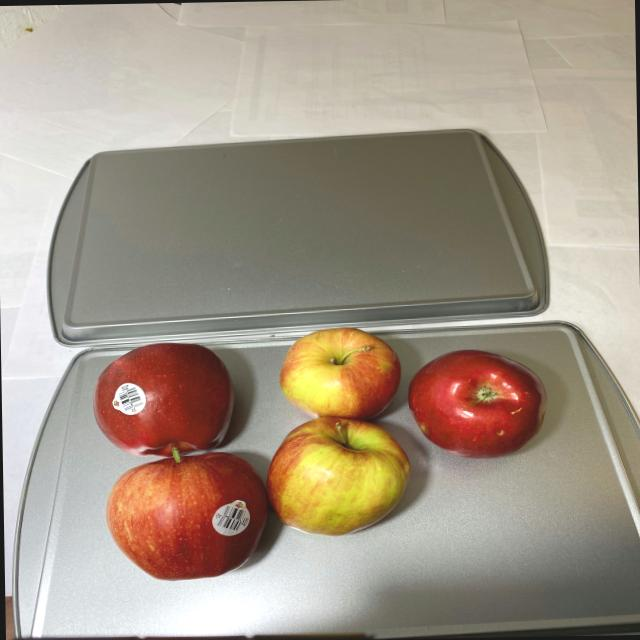apple: (87, 324, 553, 582)
